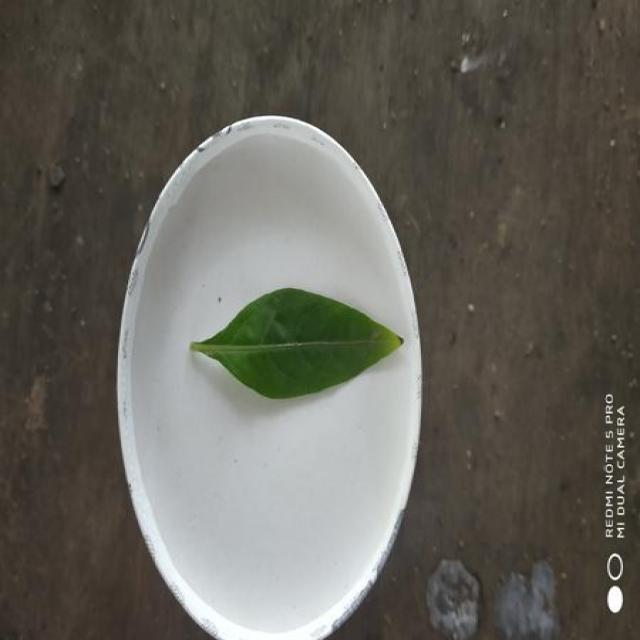Nelavembu: (190, 288, 403, 399)
